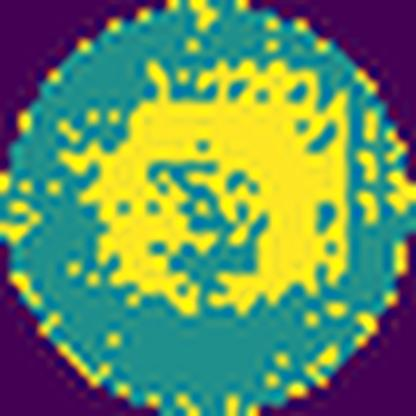Donut: (54, 54, 358, 320)
